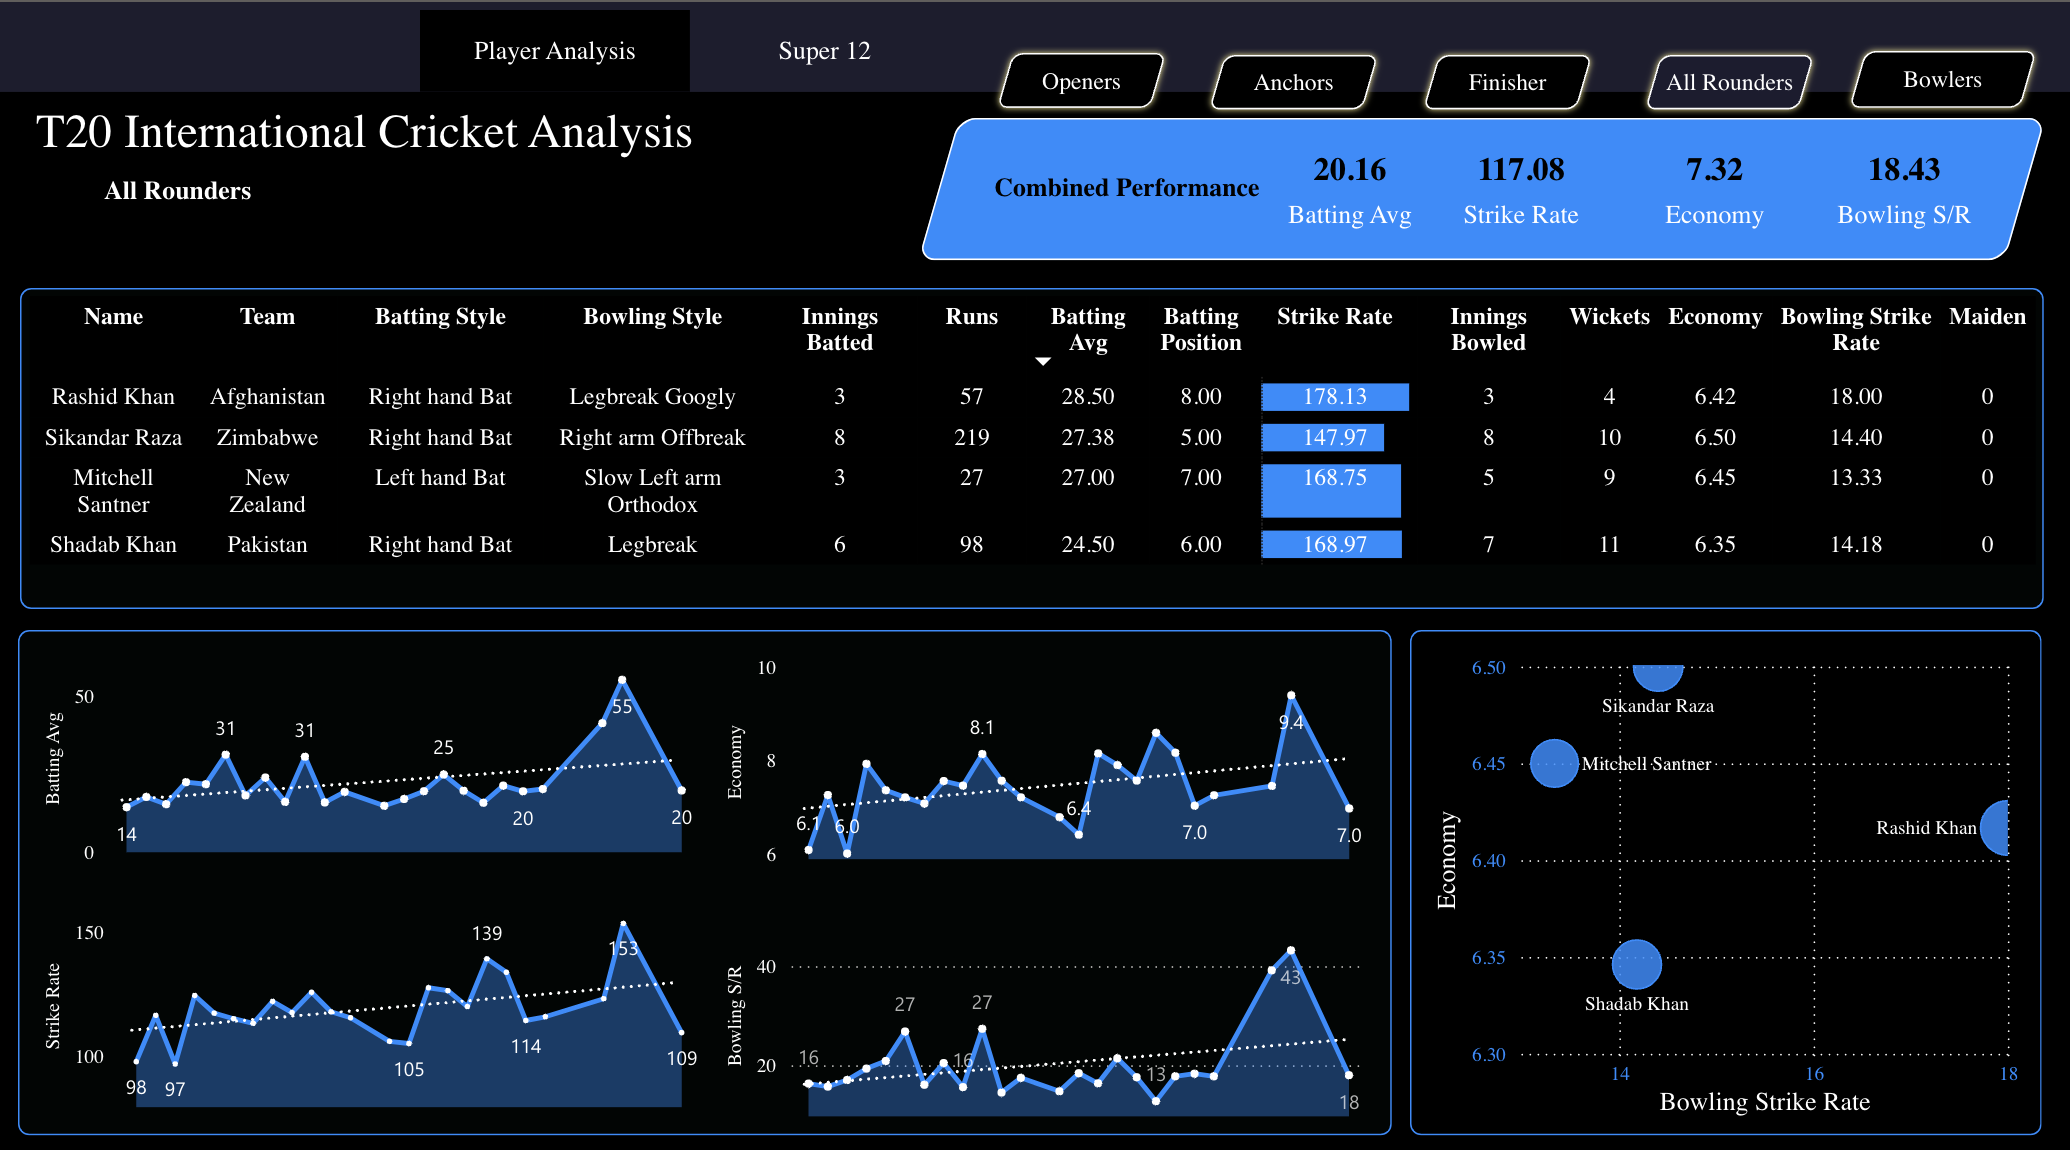

Layout of this report page (visuals, bound fields, positions):
{"tool":"powerbi","page":{"name":"All Rounders","canvas":[1280,720],"ordinal":3},"visuals":[{"type":"shape","box":[0,0,1280,65.6],"z":0},{"type":"shape","box":[12,186.5,1251.4,198.5],"z":1000},{"type":"shape","box":[64.4,101.9,254.8,50.7],"z":2000},{"type":"shape","box":[567.7,81.1,697.4,87.9],"z":3000},{"type":"shape","box":[606.4,109.4,181.8,31.3],"z":4000},{"type":"shape","box":[608,33.5,120.7,50],"z":5000},{"type":"shape","box":[740.2,34.1,120.8,49.7],"z":6000},{"type":"shape","box":[872.3,34.1,120.8,49.7],"z":7000},{"type":"shape","box":[1008.7,34.1,120.8,49.7],"z":8000},{"type":"shape","box":[1135.1,32.7,132.1,51.1],"z":9000},{"type":"shape","box":[11.4,397.8,849.5,312.5],"z":10000},{"type":"tableEx","fields":{"Values":["dim_players.name","dim_players.team","dim_players.battingStyle","dim_players.bowlingStyle","Key_Measures.Total Innings Batted","Key_Measures.Total Runs","Key_Measures.Batting Avg","Key_Measures.Batting Position","Key_Measures.Strike rate","Key_Measures.Total Innings Bowled","Key_Measures.wickets","Key_Measures.Economy"]},"box":[12,186.5,1251.4,198.5],"z":11000},{"type":"areaChart","fields":{"Category":["dim_match_summary.matchDate.Variation.Date Hierarchy.Year","dim_match_summary.matchDate.Variation.Date Hierarchy.Month","dim_match_summary.matchDate.Variation.Date Hierarchy.Day"],"Y":["Key_Measures.Batting Avg"]},"box":[22.4,405.3,414.2,143.1],"z":12000},{"type":"areaChart","fields":{"Category":["dim_match_summary.matchDate.Variation.Date Hierarchy.Year","dim_match_summary.matchDate.Variation.Date Hierarchy.Month","dim_match_summary.matchDate.Variation.Date Hierarchy.Day"],"Y":["Key_Measures.Economy"]},"box":[444.1,406.8,405.3,143.1],"z":13000},{"type":"areaChart","fields":{"Category":["dim_match_summary.matchDate.Variation.Date Hierarchy.Year","dim_match_summary.matchDate.Variation.Date Hierarchy.Quarter","dim_match_summary.matchDate.Variation.Date Hierarchy.Month","dim_match_summary.matchDate.Variation.Date Hierarchy.Day"],"Y":["Key_Measures.Strike rate"]},"box":[22.4,555.8,414.2,143.1],"z":14000},{"type":"areaChart","fields":{"Category":["dim_match_summary.matchDate.Variation.Date Hierarchy.Year","dim_match_summary.matchDate.Variation.Date Hierarchy.Month","dim_match_summary.matchDate.Variation.Date Hierarchy.Day"],"Y":["Key_Measures.Bowling Strike Rate"]},"box":[444.1,561,405.1,142.6],"z":15000},{"type":"scatterChart","fields":{"Category":["dim_players.name"],"X":["Key_Measures.Bowling Strike Rate"],"Y":["Key_Measures.Economy"],"Size":["Key_Measures.Bowling Strike Rate"]},"box":[882.2,406.3,370.8,296.9],"z":16000},{"type":"card","title":"Consolidated Parameters","fields":{"Values":["Key_Measures.Batting Avg"]},"box":[788.2,83.8,93.9,78],"z":17000},{"type":"card","title":"Consolidated Parameters","fields":{"Values":["Key_Measures.Strike rate"]},"box":[874.6,83.8,132.6,78],"z":18000},{"type":"card","title":"Consolidated Parameters","fields":{"Values":["Key_Measures.Economy"]},"box":[995.3,83.8,129.6,78],"z":19000},{"type":"card","title":"Consolidated Parameters","fields":{"Values":["Key_Measures.Bowling Strike Rate"]},"box":[1125,83.8,104.3,78],"z":20000},{"type":"shape","box":[872.3,397.8,390.7,312.5],"z":21000},{"type":"shape","title":"T20 International Cricket Analysis","box":[22.4,73,554.3,35.8],"z":21001},{"type":"shape","box":[259.3,14.9,166.9,50.7],"z":21002},{"type":"shape","box":[426.2,14.9,166.9,50.7],"z":21003}]}

Visuals, with their boxes on the page's 1280x720 design canvas (x1, y1, x2, y2). These are canvas units, not pixel positions in the 2070x1150 screenshot, which may show the page scaled, cropped or inside an application window:
shape: 0:0:1280:66
shape: 12:186:1263:385
shape: 64:102:319:153
shape: 568:81:1265:169
shape: 606:109:788:141
shape: 608:34:729:84
shape: 740:34:861:84
shape: 872:34:993:84
shape: 1009:34:1130:84
shape: 1135:33:1267:84
shape: 11:398:861:710
tableEx - dim_players.name x dim_players.team: 12:186:1263:385
areaChart - dim_match_summary.matchDate.Variation.Date Hierarchy.Year x dim_match_summary.matchDate.Variation.Date Hierarchy.Month: 22:405:437:548
areaChart - dim_match_summary.matchDate.Variation.Date Hierarchy.Year x dim_match_summary.matchDate.Variation.Date Hierarchy.Month: 444:407:849:550
areaChart - dim_match_summary.matchDate.Variation.Date Hierarchy.Year x dim_match_summary.matchDate.Variation.Date Hierarchy.Quarter: 22:556:437:699
areaChart - dim_match_summary.matchDate.Variation.Date Hierarchy.Year x dim_match_summary.matchDate.Variation.Date Hierarchy.Month: 444:561:849:704
scatterChart - dim_players.name x Key_Measures.Bowling Strike Rate: 882:406:1253:703
"Consolidated Parameters" card: 788:84:882:162
"Consolidated Parameters" card: 875:84:1007:162
"Consolidated Parameters" card: 995:84:1125:162
"Consolidated Parameters" card: 1125:84:1229:162
shape: 872:398:1263:710
"T20 International Cricket Analysis" shape: 22:73:577:109
shape: 259:15:426:66
shape: 426:15:593:66
